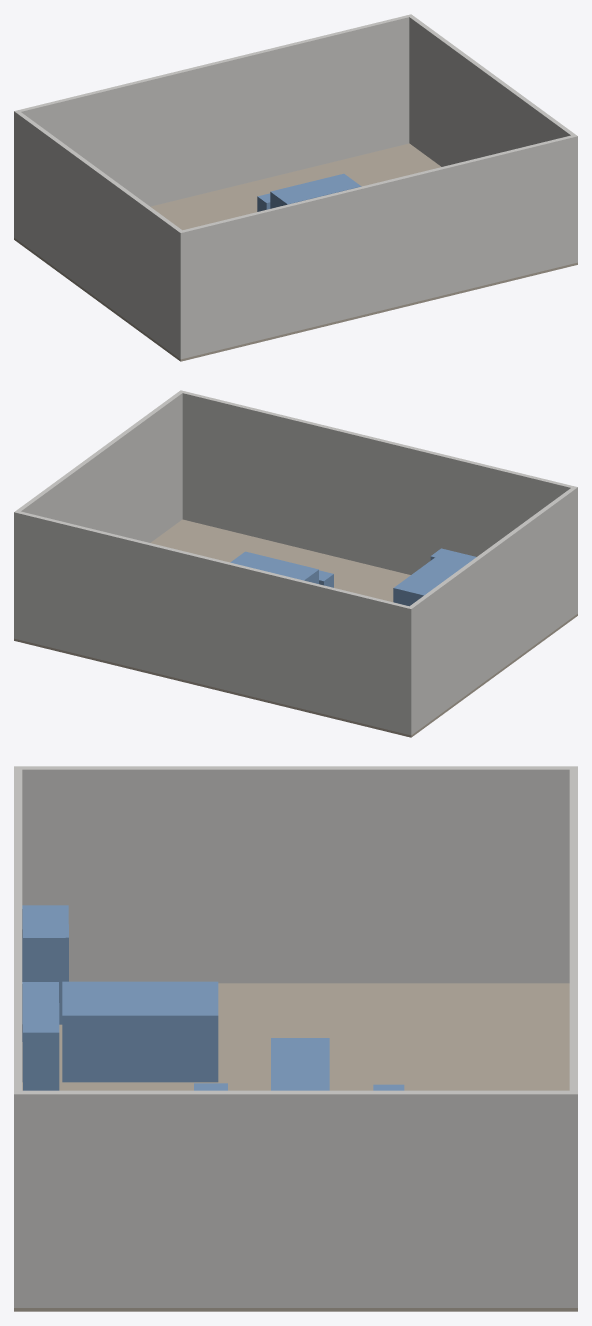
Rendered from room_043.glb.
3 renders of one model, top to bottom at view 1: azimuth 30°, elevation 25°; view 2: azimuth 150°, elevation 25°; view 3: azimuth 270°, elevation 25°, orthographic. The views are drawn at different scales.
Parts seen in each view (by area): view 1: shell_wall_0_s0, shell_wall_2_s0, shell_wall_3_s0, shell_wall_1_s0, shell_floor, obj_001; view 2: shell_wall_2_s0, shell_wall_0_s0, shell_wall_3_s0, shell_wall_1_s0, shell_floor, obj_005, obj_001; view 3: shell_wall_1_s0, shell_wall_3_s0, shell_floor, obj_005, shell_wall_0_s0, obj_004, obj_000, shell_wall_2_s0, obj_001.
Boxes of the visible parts, bbox=[...] form: shell_wall_0_s0: bbox=[178, 135, 577, 359]; shell_wall_2_s0: bbox=[14, 14, 412, 238]; shell_wall_3_s0: bbox=[14, 112, 184, 358]; shell_wall_1_s0: bbox=[407, 14, 577, 216]; shell_floor: bbox=[14, 143, 577, 361]; obj_001: bbox=[270, 173, 361, 208]; shell_wall_2_s0: bbox=[14, 511, 413, 735]; shell_wall_0_s0: bbox=[179, 390, 577, 614]; shell_wall_3_s0: bbox=[407, 488, 575, 734]; shell_wall_1_s0: bbox=[14, 391, 182, 639]; shell_floor: bbox=[14, 519, 577, 737]; obj_005: bbox=[393, 554, 469, 606]; obj_001: bbox=[230, 551, 318, 583]; shell_wall_1_s0: bbox=[14, 1090, 577, 1307]; shell_wall_3_s0: bbox=[14, 766, 577, 983]; shell_floor: bbox=[14, 983, 577, 1311]; obj_005: bbox=[62, 981, 218, 1082]; shell_wall_0_s0: bbox=[14, 766, 22, 1307]; obj_004: bbox=[22, 982, 59, 1090]; obj_000: bbox=[22, 905, 68, 1024]; shell_wall_2_s0: bbox=[569, 766, 577, 1307]; obj_001: bbox=[271, 1038, 329, 1090].
Bounding box in the file's own units: 9.22 × 2.85 × 6.7.
